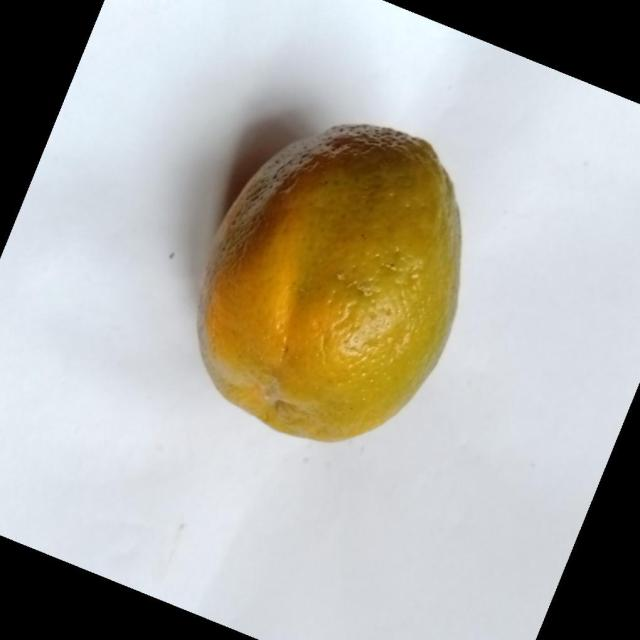fresh orange: (196, 122, 462, 443)
